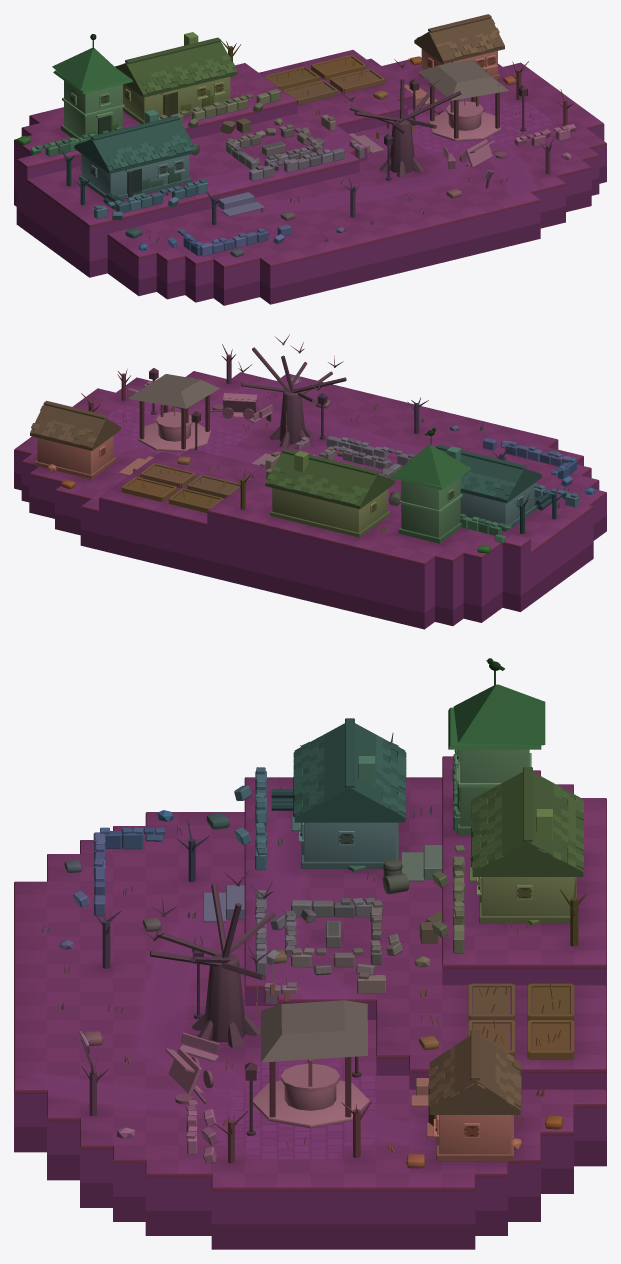
Rendered from grass_3_withered.glb.
3 renders of one model, top to bottom at view 1: azimuth 30°, elevation 25°; view 2: azimuth 150°, elevation 25°; view 3: azimuth 270°, elevation 25°, orthographic. The views are drawn at different scales.
Visible parts, largest first — view 1: Terrain.001, Buildings, Props, Trees, Greenery; view 2: Terrain.001, Buildings, Props, Trees, Greenery; view 3: Terrain.001, Buildings, Props, Trees, Greenery.
Boxes of the visible parts, box(x1,y1,x2,y2) form: Terrain.001: box(14, 50, 606, 305); Buildings: box(52, 14, 508, 199); Props: box(30, 34, 575, 256); Trees: box(60, 40, 573, 224); Greenery: box(16, 56, 530, 257); Terrain.001: box(14, 371, 606, 629); Buildings: box(30, 374, 541, 543); Props: box(47, 368, 594, 542); Trees: box(81, 334, 563, 533); Greenery: box(61, 390, 568, 553); Terrain.001: box(14, 756, 606, 1249); Buildings: box(253, 670, 583, 1161); Props: box(59, 658, 574, 1163); Trees: box(81, 733, 586, 1163); Greenery: box(41, 787, 563, 1168).
Size of the model in its own units: 28 by 8.86 by 18.
Materials: 37 (1 with a texture image).
